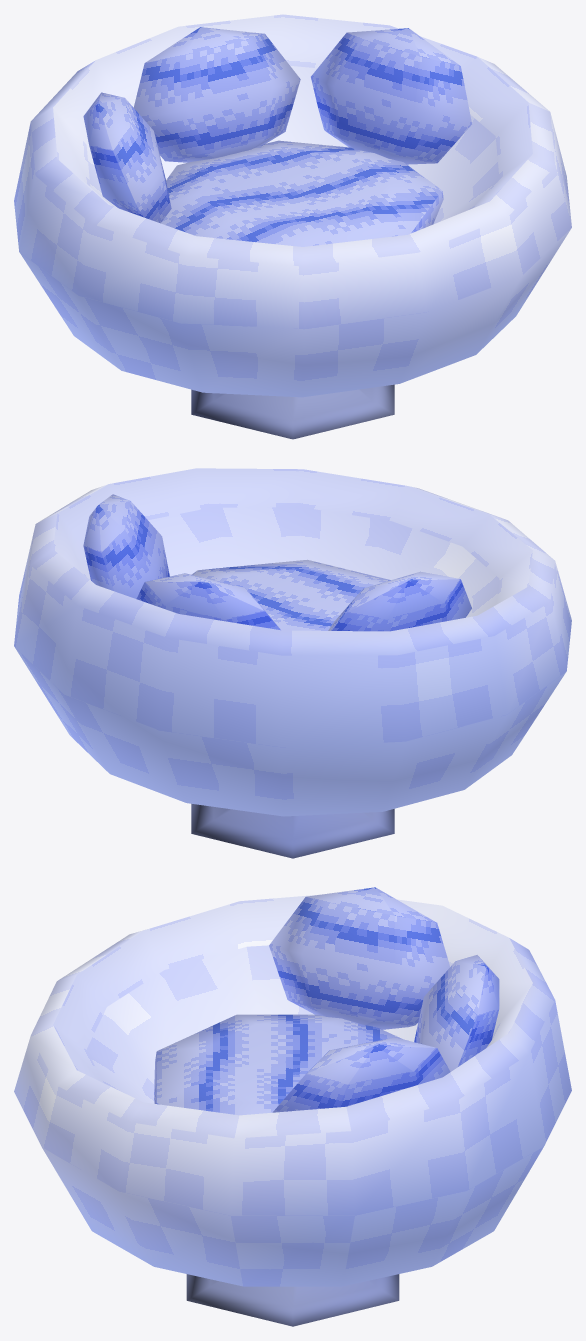
Rendered from seat_chair.glb.
The picture shows the model from 3 angles, top to bottom: view 1: azimuth 30°, elevation 25°; view 2: azimuth 150°, elevation 25°; view 3: azimuth 270°, elevation 25°; orthographic projection. The views are drawn at different scales.
Parts seen in each view (by area): view 1: kit_pod_shell, kit_pod_cushion, kit_pod_feet; view 2: kit_pod_shell, kit_pod_cushion, kit_pod_feet; view 3: kit_pod_shell, kit_pod_cushion, kit_pod_feet.
Part boxes in pixels (box(x1,y1,x2,y2)): kit_pod_shell: box(14, 14, 571, 397); kit_pod_cushion: box(83, 27, 471, 246); kit_pod_feet: box(191, 384, 394, 439); kit_pod_shell: box(14, 468, 571, 816); kit_pod_cushion: box(83, 494, 471, 631); kit_pod_feet: box(191, 803, 394, 858); kit_pod_shell: box(14, 894, 571, 1286); kit_pod_cushion: box(154, 887, 499, 1115); kit_pod_feet: box(186, 1274, 399, 1326).
Size of the model in its own units: 1.27 by 0.7316 by 1.2.
3 materials, 2 textured.
